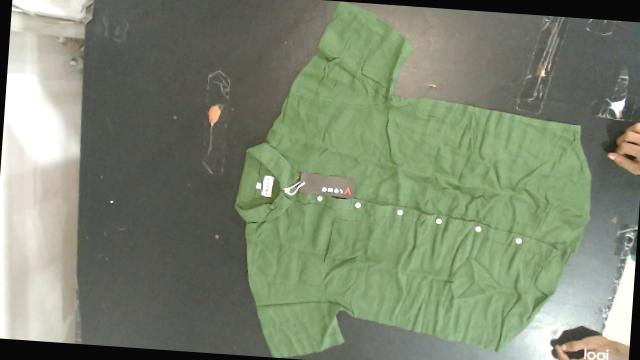new-garment: (235, 1, 590, 357)
